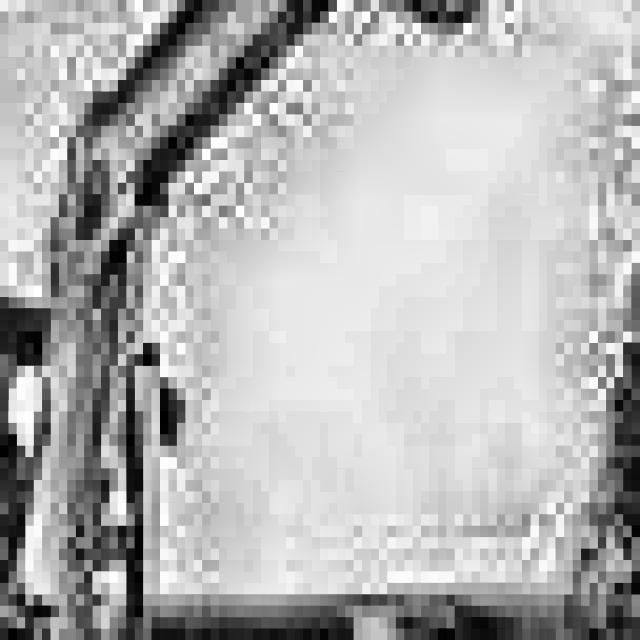excavator: (0, 228, 227, 640)
